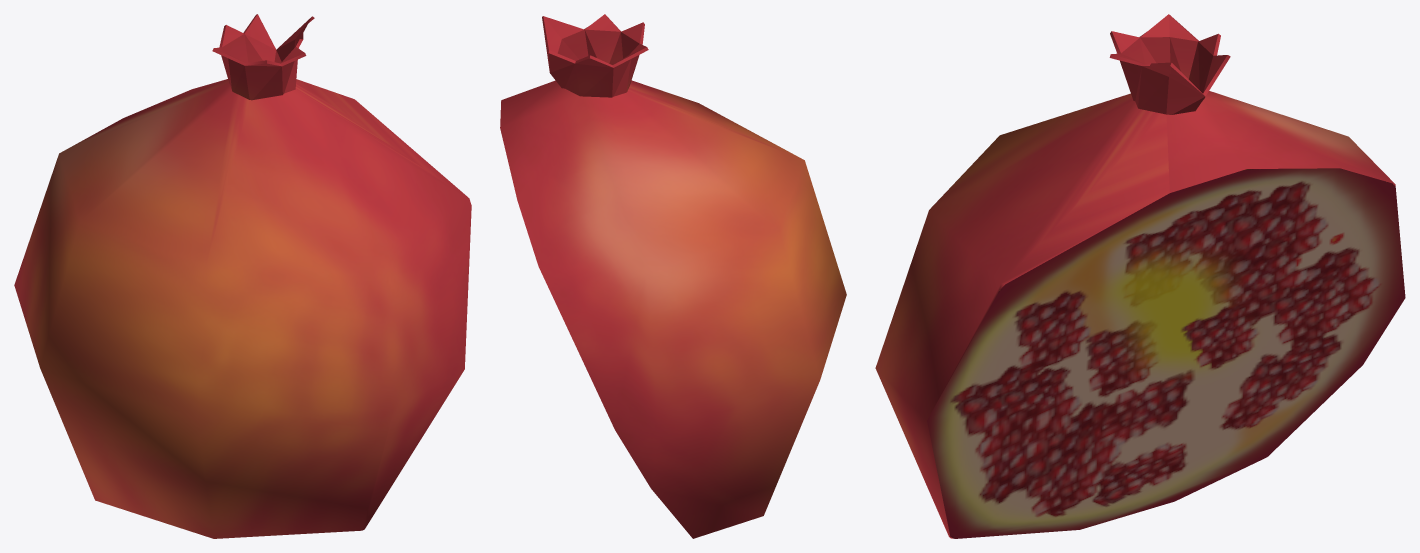
The model's file is pomegranateS12.FBX.
The picture shows the model from 3 angles, left to right: view 1: azimuth 30°, elevation 25°; view 2: azimuth 150°, elevation 25°; view 3: azimuth 270°, elevation 25°; orthographic projection. The views are drawn at different scales.
Visible parts, largest first — view 1: Pomegranate Slice1; view 2: Pomegranate Slice1; view 3: Pomegranate Slice1.
Part boxes in pixels (x1,y1,x2,y2): Pomegranate Slice1: [14, 14, 471, 538]; Pomegranate Slice1: [500, 14, 846, 538]; Pomegranate Slice1: [875, 14, 1405, 538].
Size of the model in its own units: 6.83 by 8.47 by 7.62.
